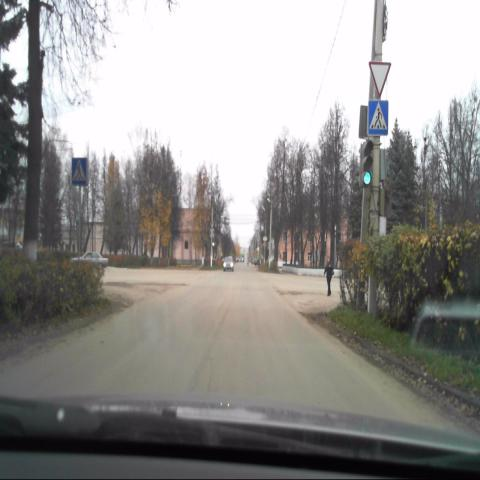5_19_1: (368, 99, 389, 137)
